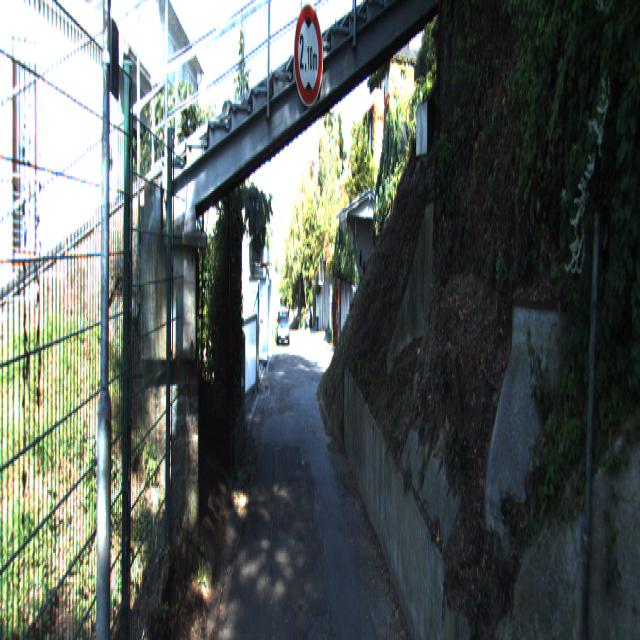Car: (277, 310, 290, 349)
